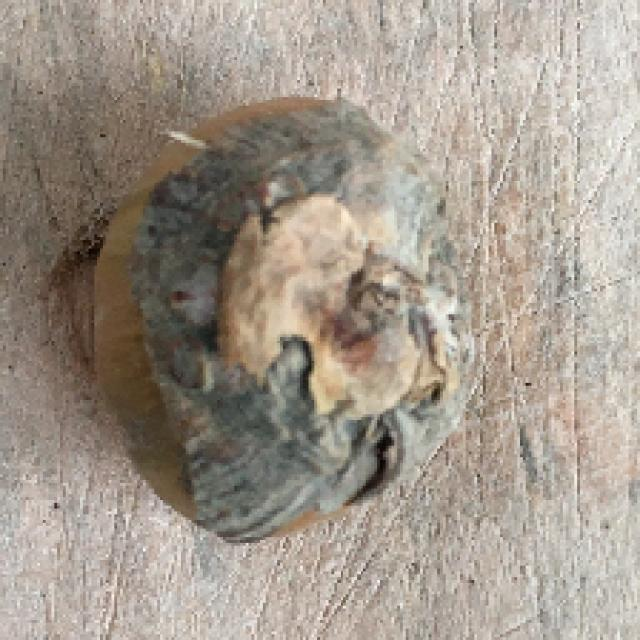damagedHazelnut: (81, 88, 458, 526)
